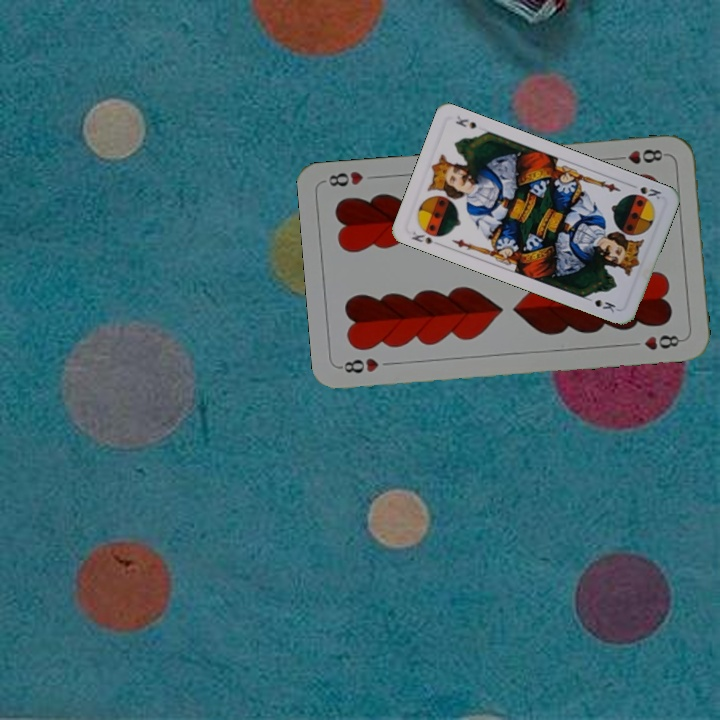H8: (610, 145, 669, 167), (336, 353, 382, 376)
SK: (407, 224, 445, 247), (636, 182, 664, 204)
